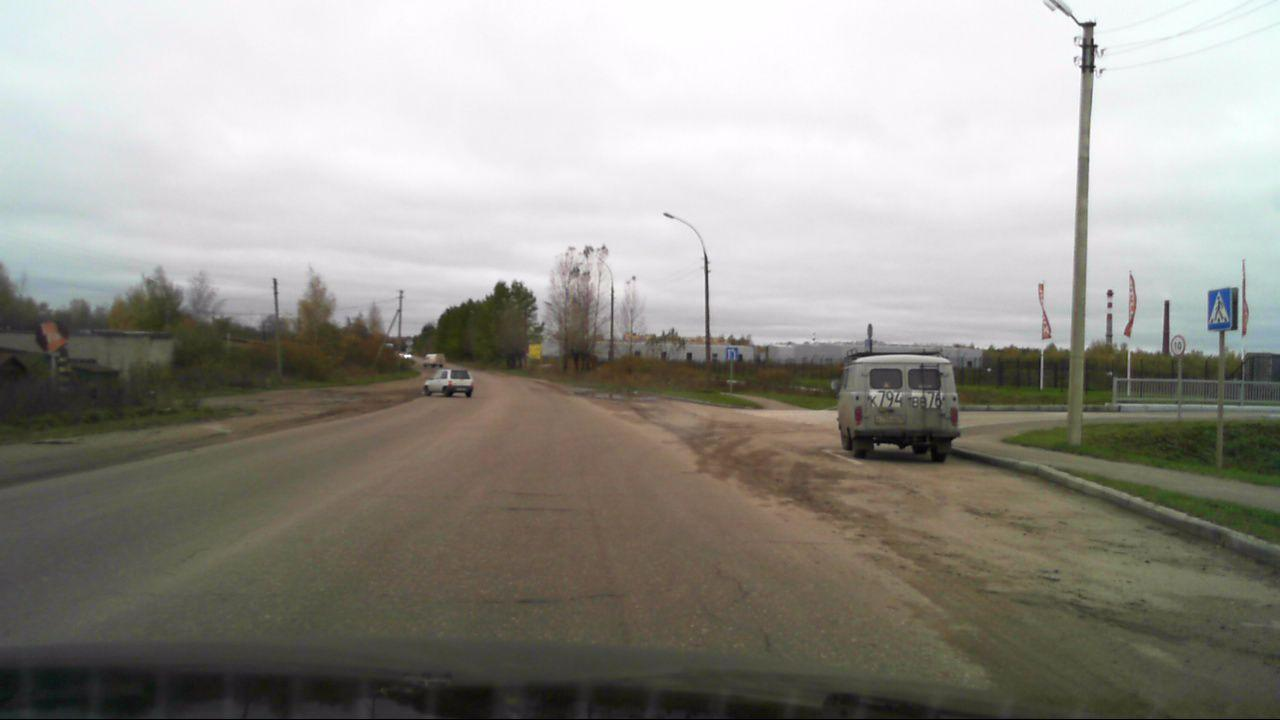road_sign: (1208, 290, 1235, 329)
